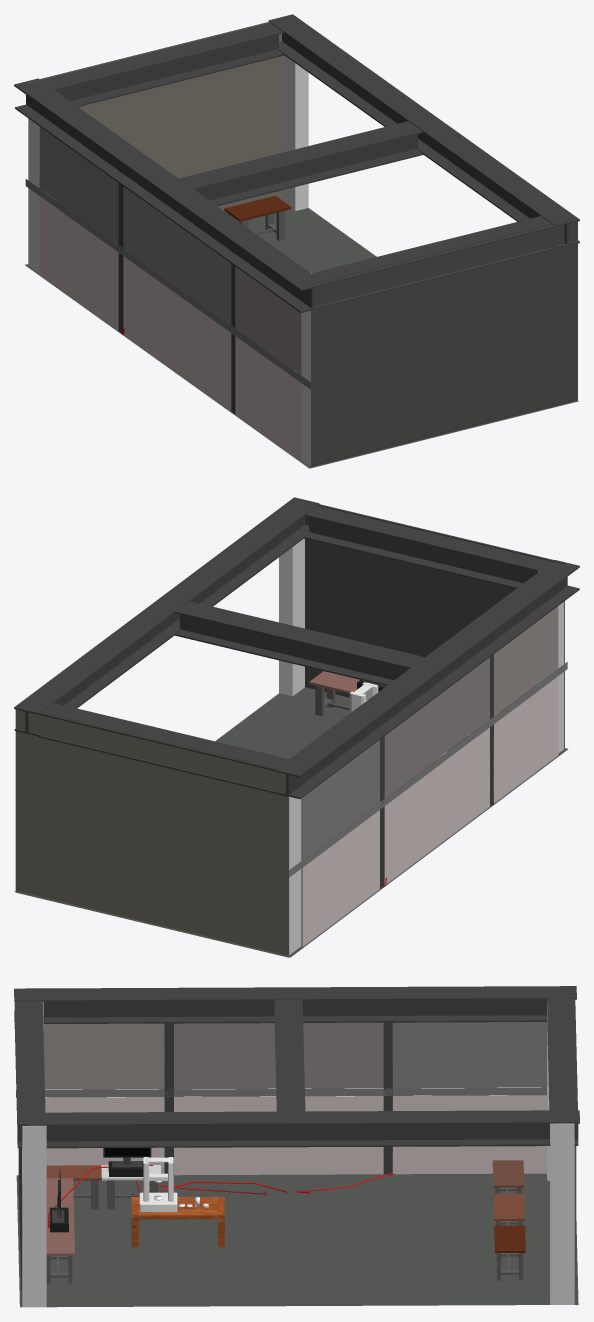
The model's file is COMPRESION_002.gltf.
The picture shows the model from 3 angles, top to bottom: view 1: azimuth 30°, elevation 25°; view 2: azimuth 150°, elevation 25°; view 3: azimuth 270°, elevation 25°; orthographic projection.
Parts seen in each view (by area): view 1: Vigas_Amarre, ParedFondo, ParedDerecha, ParedIzquierda.005, ParedIzquierda.008, ParedIzquierda.006, ParedIzquierda.001, Piso, ParedIzquierda.007, ParedIzquierda.009, Columna4, ParedIzquierda.002 (+5 smaller); view 2: ParedDerecha, Vigas_Amarre, ParedFondo, ParedIzquierda.005, ParedIzquierda.008, Piso, ParedIzquierda.006, ParedIzquierda.001, ParedIzquierda.007, ParedIzquierda.009, Columna1, ParedIzquierda.002 (+5 smaller); view 3: Piso, Vigas_Amarre, ParedIzquierda.008, ParedIzquierda.007, ParedIzquierda.005, ParedIzquierda.009, ParedIzquierda.006, Columna1, Columna4, ParedIzquierda.002, ParedIzquierda.001, mesa_compresion (+14 smaller).
Boxes of the visible parts, box(x1,y1,x2,y2) form: Vigas_Amarre: box(14, 14, 579, 312); ParedFondo: box(311, 217, 577, 467); ParedDerecha: box(28, 22, 282, 264); ParedIzquierda.005: box(123, 256, 231, 410); ParedIzquierda.008: box(123, 186, 231, 324); ParedIzquierda.006: box(39, 196, 118, 330); ParedIzquierda.001: box(235, 336, 301, 461); Piso: box(25, 208, 578, 468); ParedIzquierda.007: box(39, 127, 118, 244); ParedIzquierda.009: box(235, 266, 301, 374); Columna4: box(283, 55, 308, 210); ParedIzquierda.002: box(25, 179, 310, 389); ParedDerecha: box(15, 709, 288, 957); Vigas_Amarre: box(14, 497, 579, 799); ParedFondo: box(293, 499, 564, 748); ParedIzquierda.005: box(384, 727, 489, 884); ParedIzquierda.008: box(384, 657, 489, 797); Piso: box(14, 687, 568, 957); ParedIzquierda.006: box(302, 810, 379, 946); ParedIzquierda.001: box(493, 676, 558, 803); ParedIzquierda.007: box(302, 740, 379, 859); ParedIzquierda.009: box(494, 606, 558, 716); Columna1: box(279, 538, 304, 696); ParedIzquierda.002: box(289, 662, 567, 877); Piso: box(16, 1173, 578, 1307); Vigas_Amarre: box(14, 986, 579, 1148); ParedIzquierda.008: box(174, 1022, 383, 1089); ParedIzquierda.007: box(392, 1022, 546, 1088); ParedIzquierda.005: box(174, 1096, 383, 1175); ParedIzquierda.009: box(43, 1023, 164, 1089); ParedIzquierda.006: box(392, 1095, 546, 1174); Columna1: box(22, 1125, 46, 1307); Columna4: box(550, 1123, 574, 1304); ParedIzquierda.002: box(16, 1087, 546, 1097); ParedIzquierda.001: box(45, 1097, 164, 1173); mesa_compresion: box(131, 1197, 224, 1247).
Bounding box in the file's own units: 10.57 × 6.51 × 18.15.
43 materials, 1 textured.
